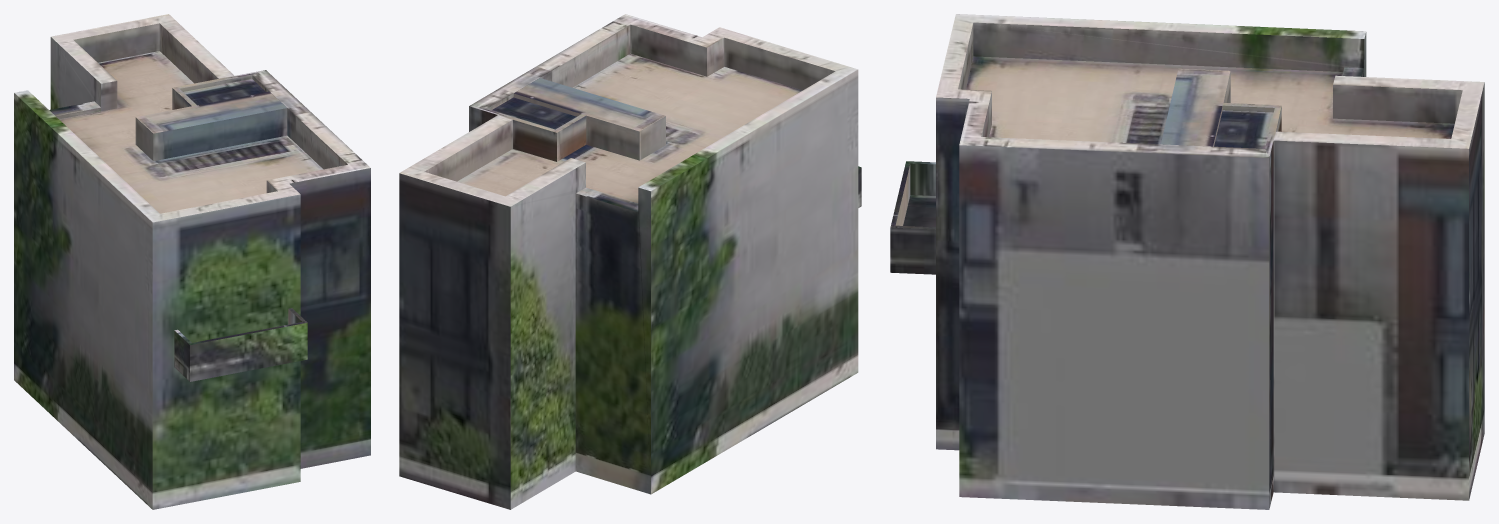
3 renders of one model, left to right at view 1: azimuth 30°, elevation 25°; view 2: azimuth 150°, elevation 25°; view 3: azimuth 270°, elevation 25°, orthographic. The views are drawn at different scales.
Parts seen in each view (by area): view 1: B286564035401062A0; view 2: B286564035401062A0; view 3: B286564035401062A0.
Part boxes in pixels (<box>): B286564035401062A0: <box>14,14,370,509</box>; B286564035401062A0: <box>399,14,861,509</box>; B286564035401062A0: <box>890,14,1484,509</box>.
Bounding box in the file's own units: 8.79 × 10.01 × 15.31.
Materials: 1 (1 with a texture image).
